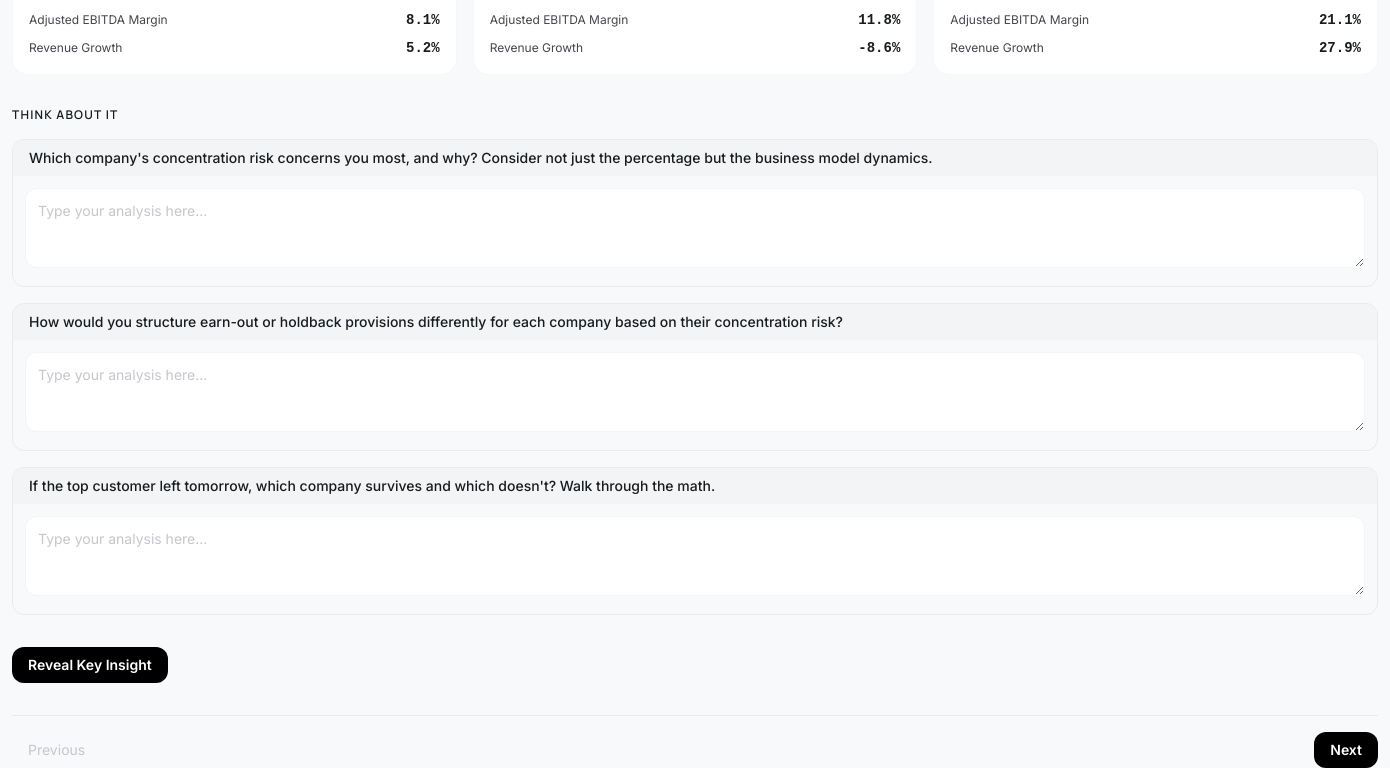
Test: ComparisonView › reveals key insight on button click
(page scrolled)
Click the button "Reveal Key Insight". click: (90, 665)
box: [12,647,168,683]
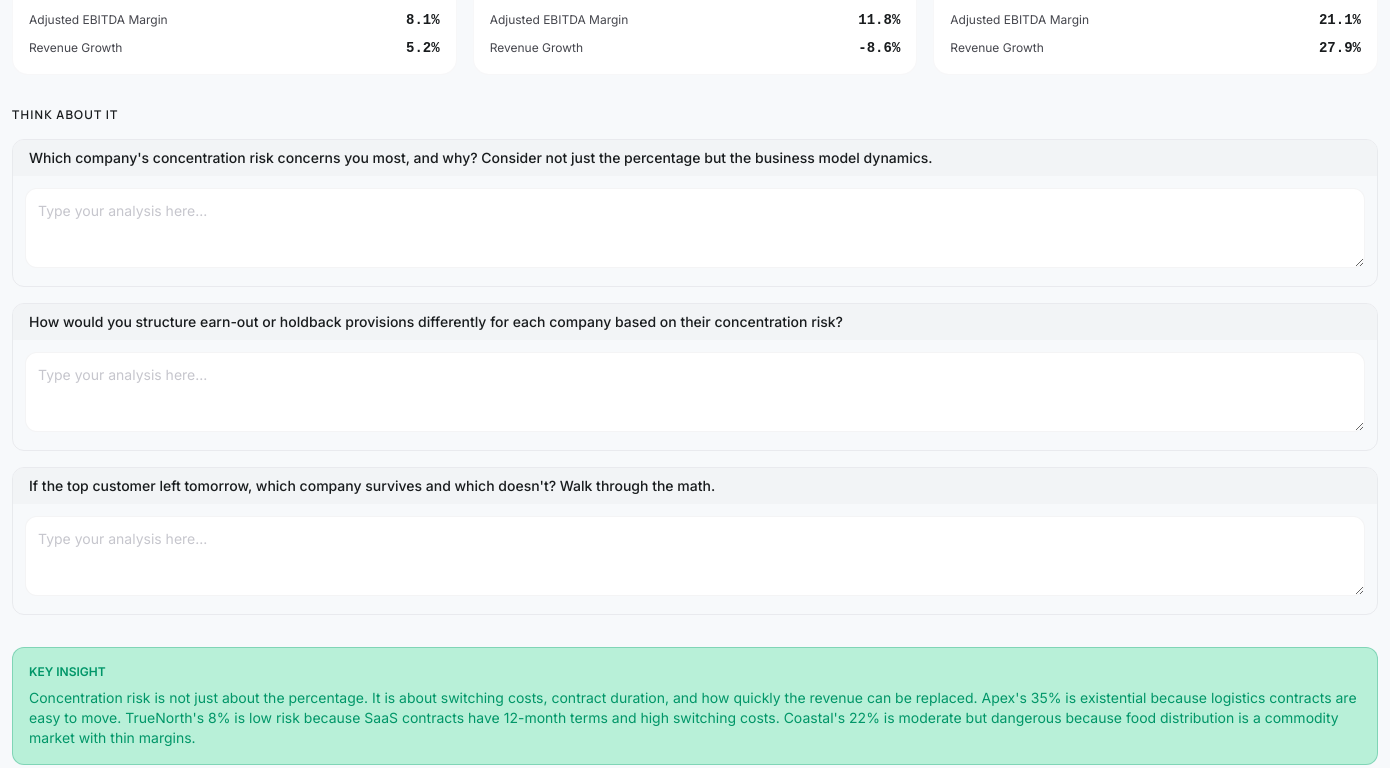
Expected: the text "Key Insight" is shown, [29,664,106,679]
Expected: the text "Concentration risk is not just about the percentage" is shown, [29,689,1356,746]
